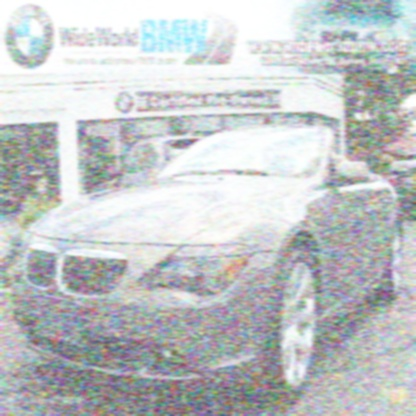Vehicle: (8, 126, 406, 414)
